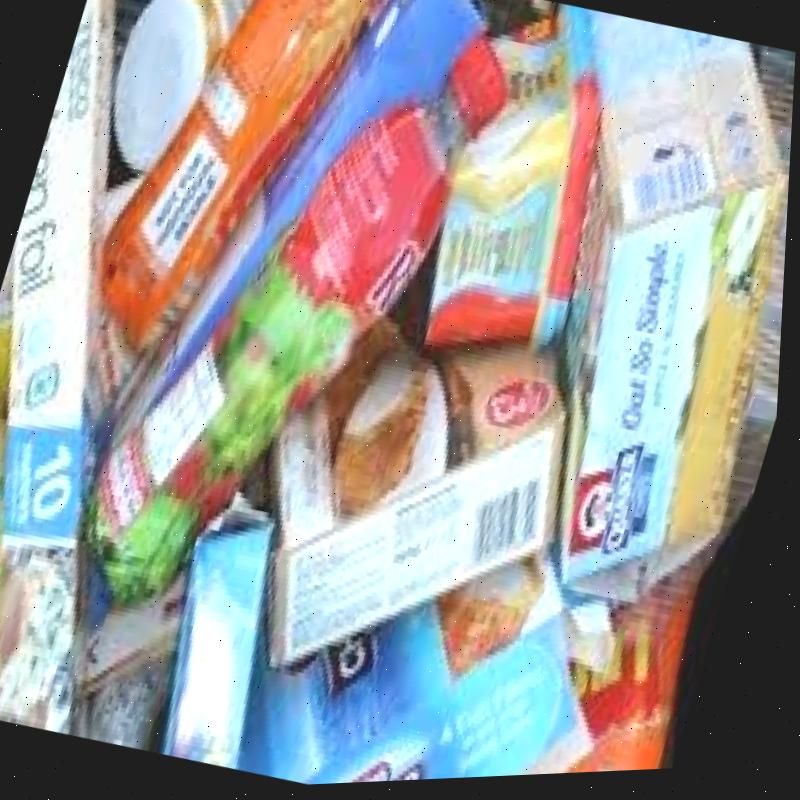botella: (99, 27, 514, 588), (85, 0, 387, 365)
